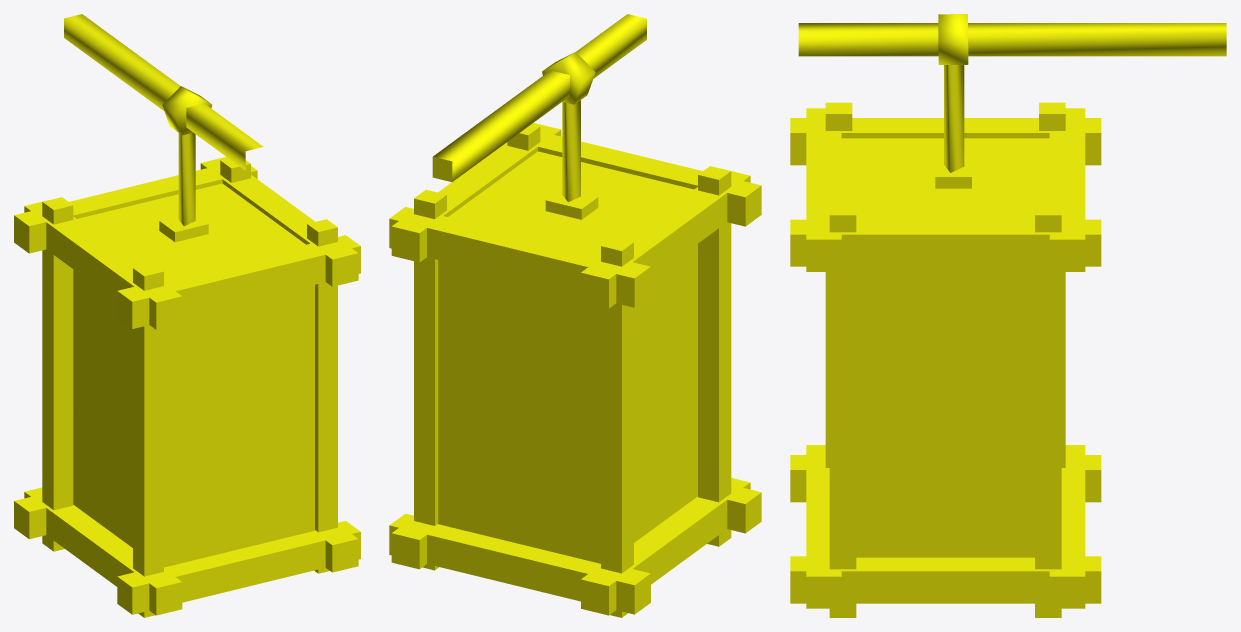
File: wall_lantern_01.glb
3 renders of one model, left to right at view 1: azimuth 30°, elevation 25°; view 2: azimuth 150°, elevation 25°; view 3: azimuth 270°, elevation 25°, orthographic. The views are drawn at different scales.
Visible parts, largest first — view 1: wall-lantern; view 2: wall-lantern; view 3: wall-lantern.
Boxes of the visible parts, x1=… form: wall-lantern: x1=14, y1=14, x2=360, y2=617; wall-lantern: x1=389, y1=14, x2=761, y2=617; wall-lantern: x1=790, y1=14, x2=1226, y2=617.
Bounding box in the file's own units: 0.606 × 1.18 × 0.8498.
1 material, 1 textured.
